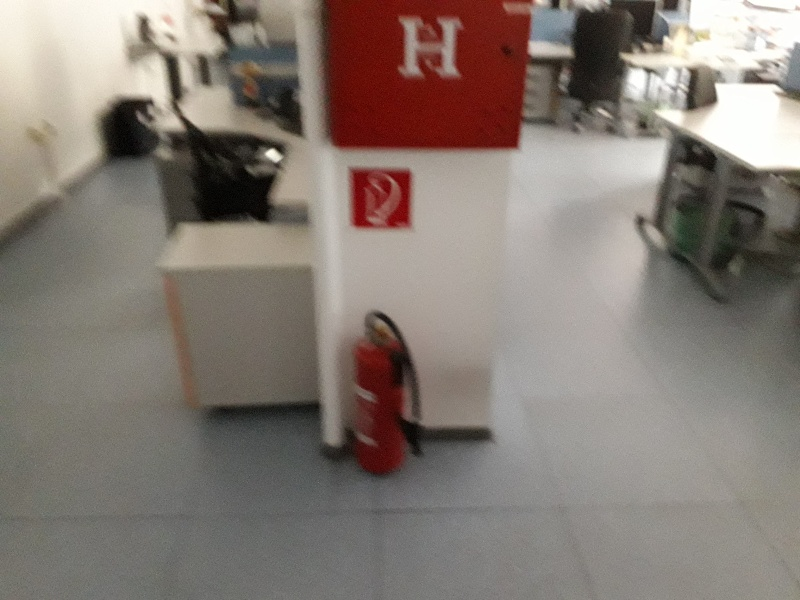vataparat: (351, 310, 424, 476)
